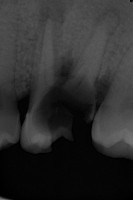Endo-Periodontal Lesion: (56, 56, 75, 82)
Furcation Involvement: (38, 0, 78, 52), (95, 5, 128, 40)
